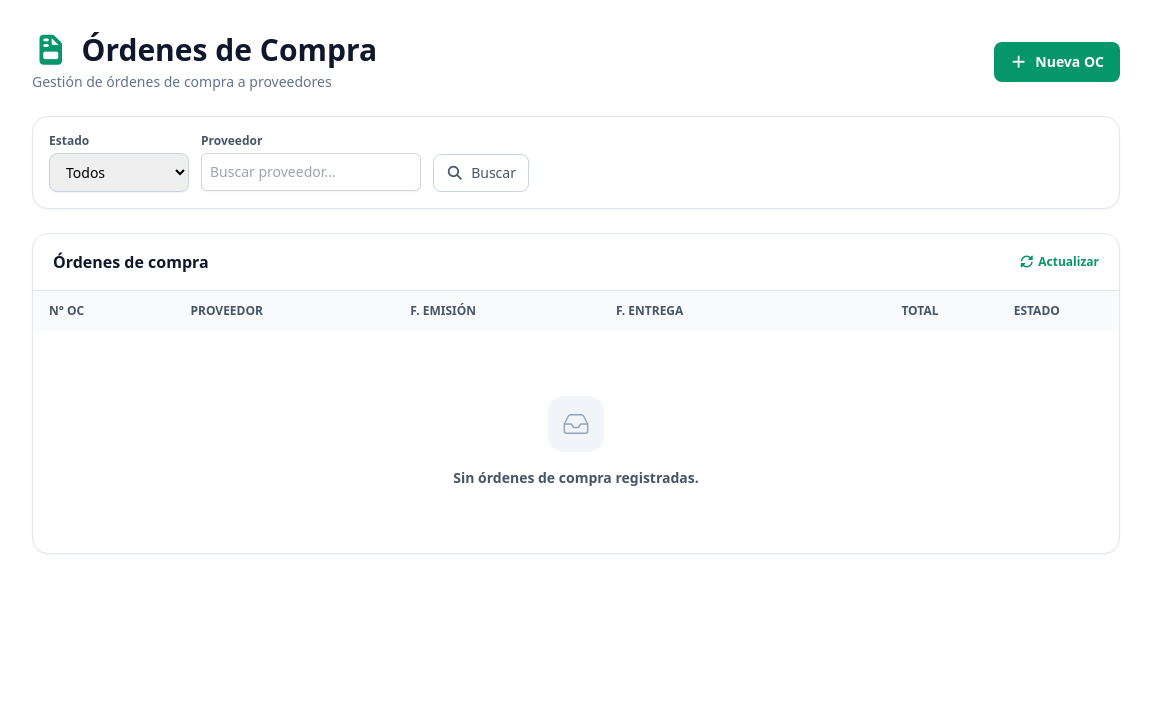
Test case: GestionOrdenes › el modal de creación se cierra con el botón Cancelar
Expected: the text "Sin órdenes de compra registradas." is shown, [453, 468, 699, 488]
Click the button "Nueva OC".
click(1057, 62)  # box [994, 42, 1120, 82]
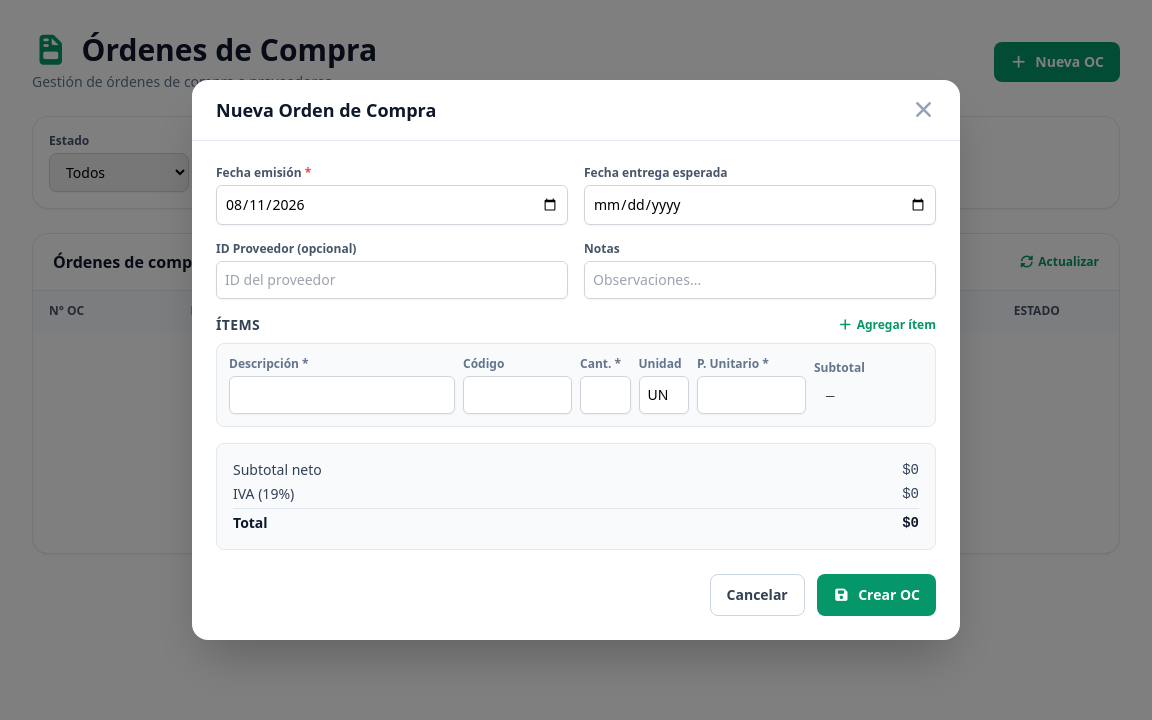
Now the heading "Nueva Orden de Compra" is shown, box [216, 96, 436, 124]
Click the button "Cancelar".
click(757, 595)  # box [710, 574, 805, 616]
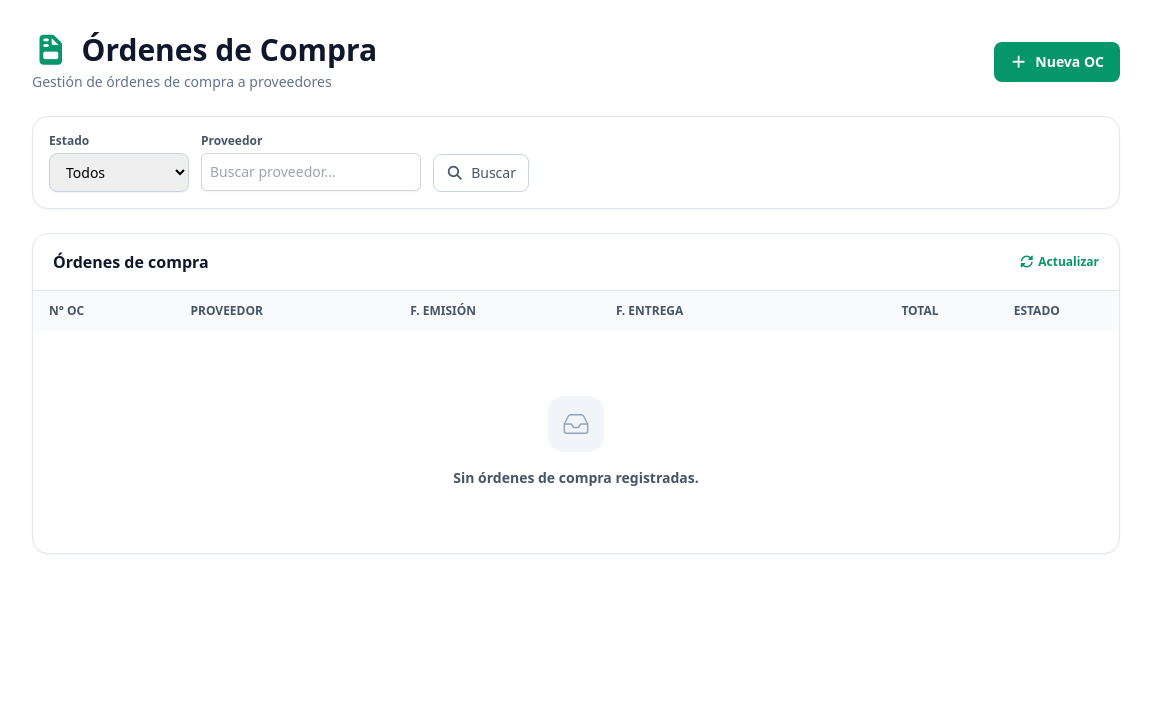
Now the heading "Nueva Orden de Compra" is gone
